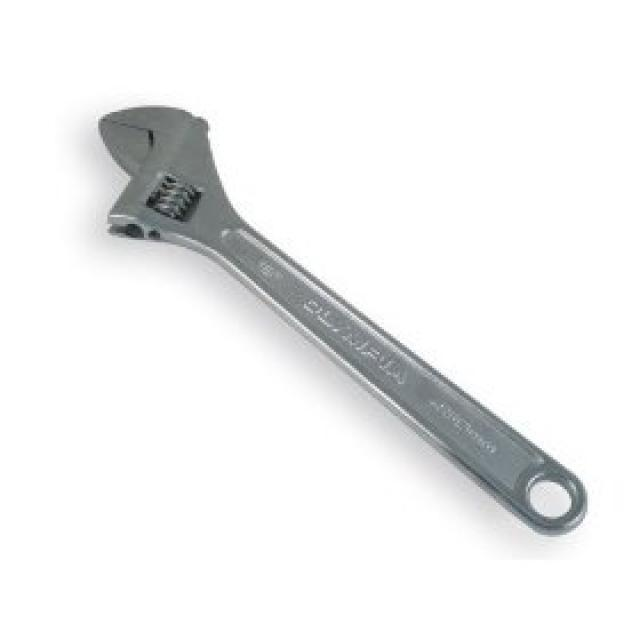wrench: (36, 57, 624, 556)
